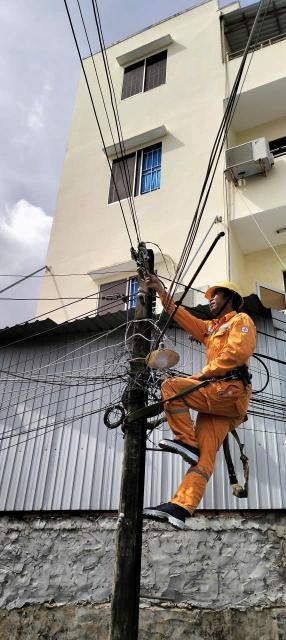gloves: (184, 360, 209, 382)
harness: (218, 362, 267, 395)
helmet: (204, 279, 248, 310)
shoes: (142, 498, 197, 538), (159, 428, 202, 478)
